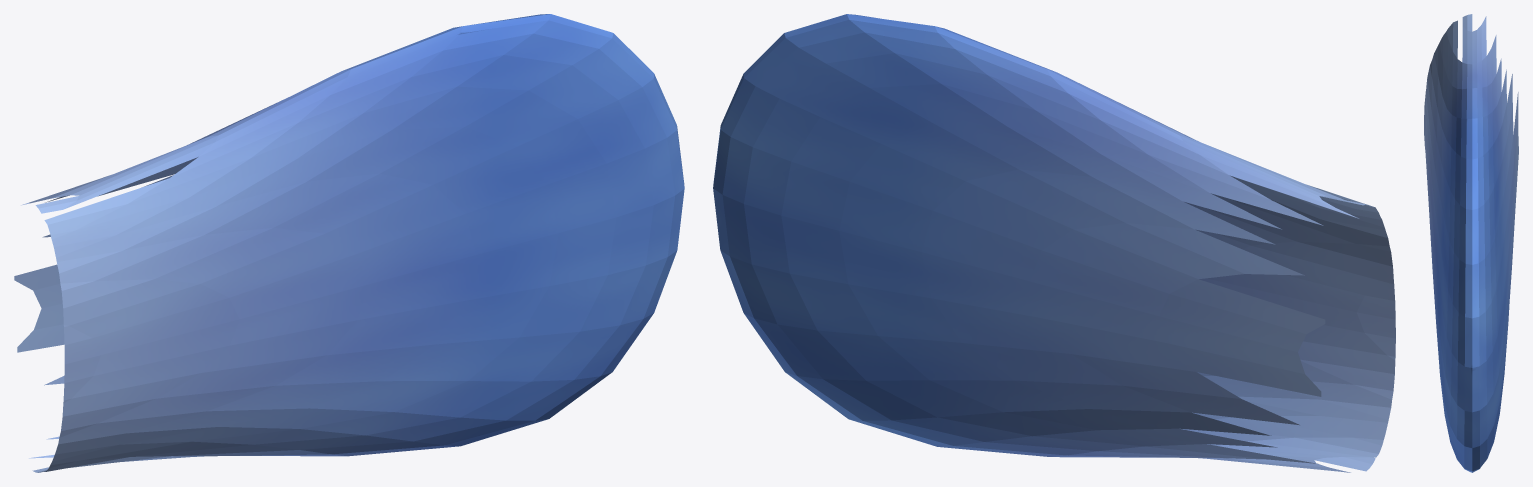
File: bluefish tail.fbx
The picture shows the model from 3 angles, left to right: view 1: azimuth 30°, elevation 25°; view 2: azimuth 150°, elevation 25°; view 3: azimuth 270°, elevation 25°; orthographic projection. The views are drawn at different scales.
Visible parts, largest first — view 1: Sphere.015; view 2: Sphere.015; view 3: Sphere.015.
Boxes of the visible parts, left/top/right/bottom form: Sphere.015: left=14, top=14, right=684, bottom=472; Sphere.015: left=713, top=14, right=1395, bottom=472; Sphere.015: left=1424, top=14, right=1518, bottom=472.
Bounding box in the file's own units: 151 × 91.98 × 24.25.
1 material, 1 textured.
